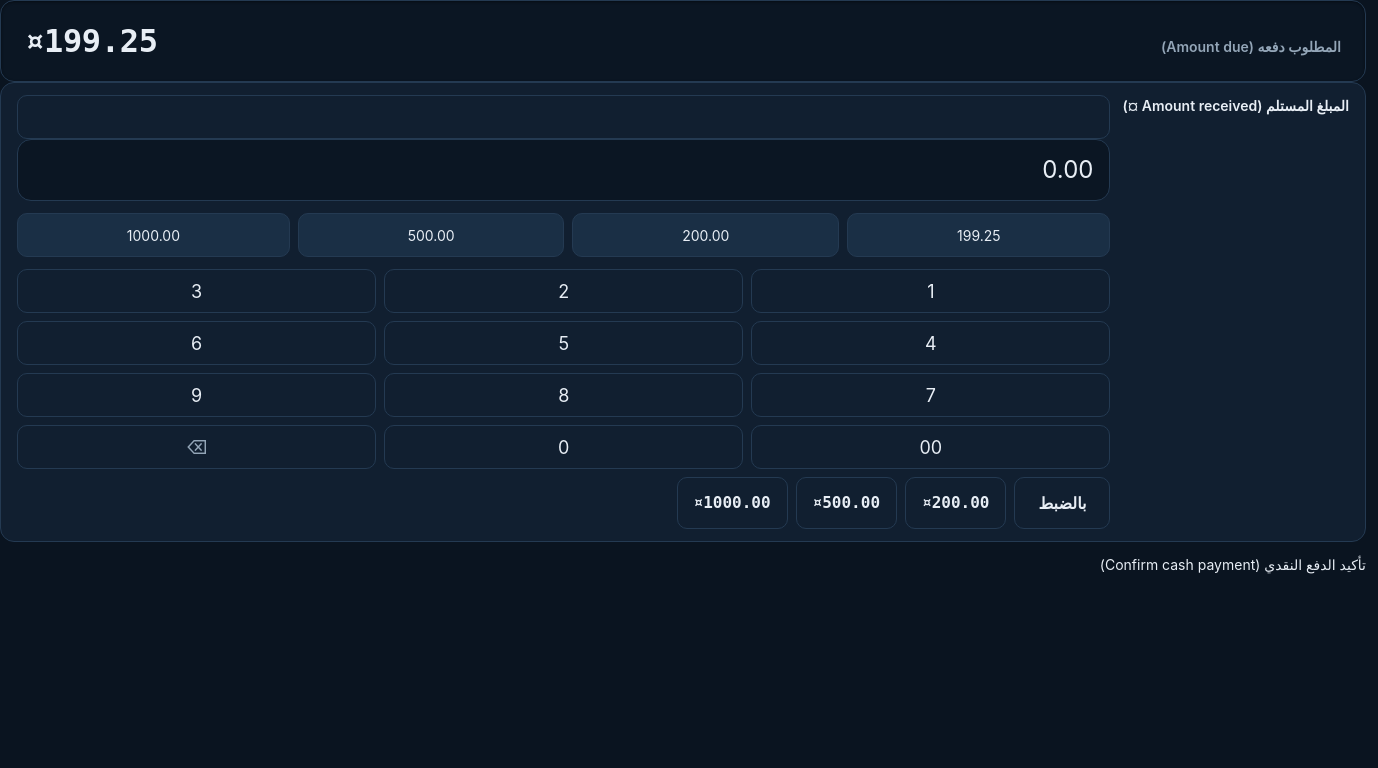
Test: <CashEntry> — AmountPad shared-state integration › choosing the exact-total quick amount fills the amount and shows zero change
This screenshot has width=1378, height=768.
Click the button with test id "amount-pad-quick-19925": point(979, 235) 847,213 -> 1110,257
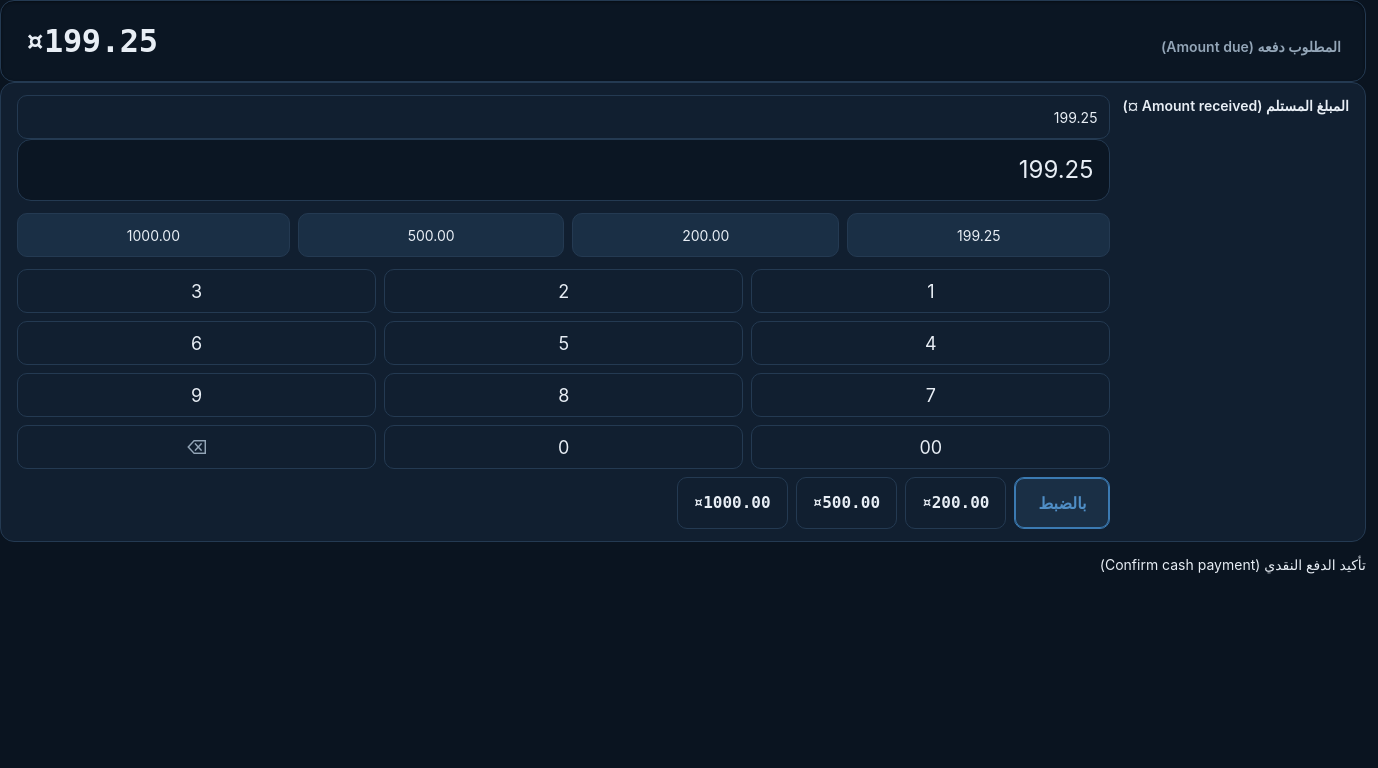
Check: the field with test id "cash-entry-amount-input" holds "199.25", box 17,95 -> 1110,139
